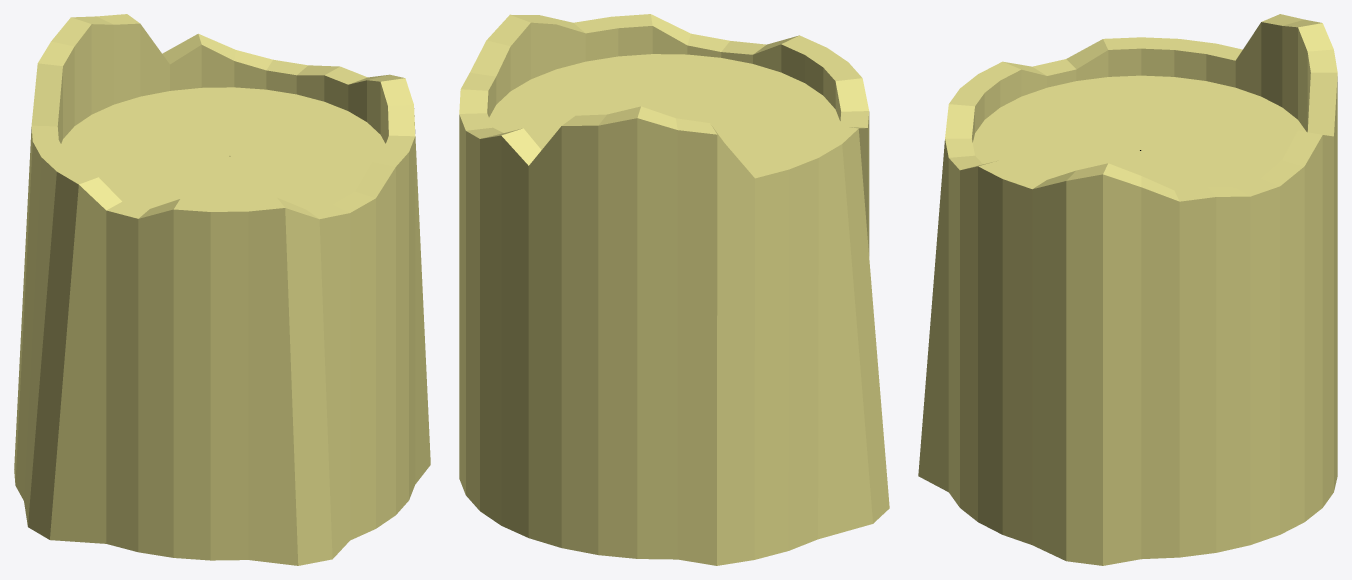
Rendered from GraveCnadleSingle.fbx.
The picture shows the model from 3 angles, left to right: view 1: azimuth 30°, elevation 25°; view 2: azimuth 150°, elevation 25°; view 3: azimuth 270°, elevation 25°; orthographic projection. The views are drawn at different scales.
Parts seen in each view (by area): view 1: Cylinder; view 2: Cylinder; view 3: Cylinder.
Boxes of the visible parts, x1,y1,x2,y2 form: Cylinder: (14,14,430,565); Cylinder: (459,14,889,565); Cylinder: (918,14,1337,565).
Bounding box in the file's own units: 226 × 237 × 214.
